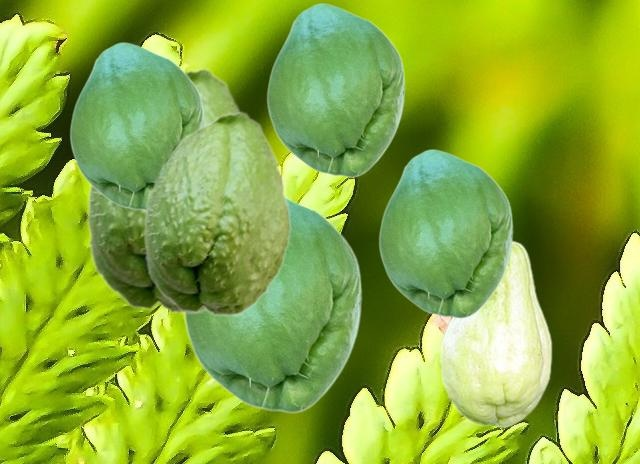sayote: (183, 196, 361, 413), (86, 66, 240, 314), (143, 110, 291, 316), (266, 3, 404, 177), (69, 42, 203, 211), (378, 149, 512, 318), (439, 240, 551, 427)
